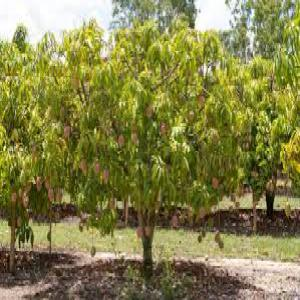Tree: (66, 13, 226, 275), (0, 23, 54, 298), (211, 52, 287, 230)
